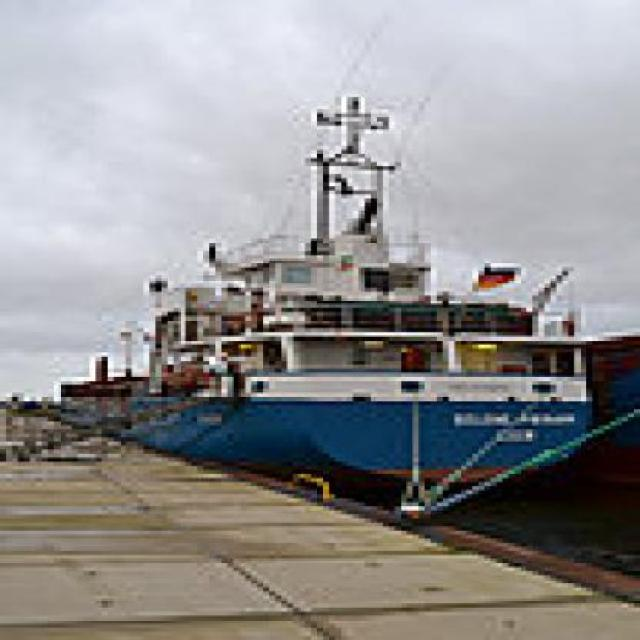container: (55, 111, 599, 500)
